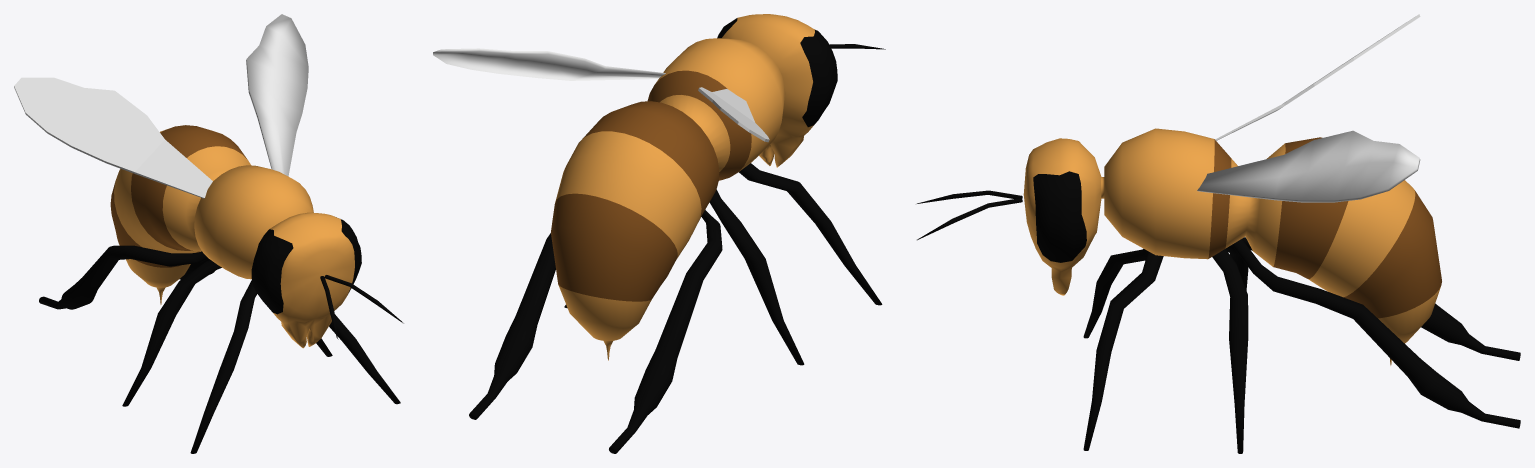
The model's file is пчела.fbx.
The picture shows the model from 3 angles, left to right: view 1: azimuth 30°, elevation 25°; view 2: azimuth 150°, elevation 25°; view 3: azimuth 270°, elevation 25°; orthographic projection. The views are drawn at different scales.
Parts seen in each view (by area): view 1: тело, голова.001, Плоскость.002, Плоскость.001; view 2: тело, голова.001, Плоскость.001, Плоскость.002; view 3: тело, голова.001, Плоскость.001, Плоскость.002.
Part boxes in pixels (x1,y1,x2,y2): тело: (110, 125, 354, 348); голова.001: (39, 217, 403, 453); Плоскость.002: (14, 77, 212, 198); Плоскость.001: (246, 14, 308, 176); тело: (551, 14, 814, 360); голова.001: (469, 18, 885, 453); Плоскость.001: (433, 48, 665, 80); Плоскость.002: (698, 87, 769, 142); тело: (1023, 128, 1441, 365); голова.001: (917, 171, 1520, 453); Плоскость.001: (1197, 130, 1420, 202); Плоскость.002: (1215, 14, 1420, 140).
Bounding box in the file's own units: 284 × 268 × 471.
